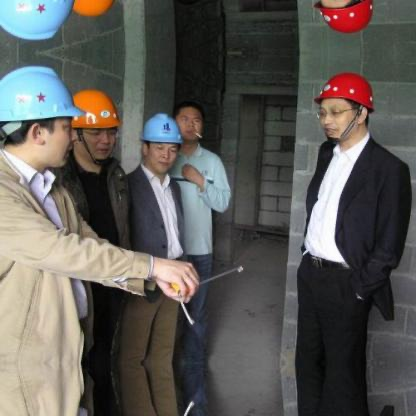No Safety Helmet: (173, 101, 208, 151)
Safety Helmet: (1, 60, 84, 173), (310, 69, 379, 148), (66, 84, 124, 164), (139, 109, 182, 178)
